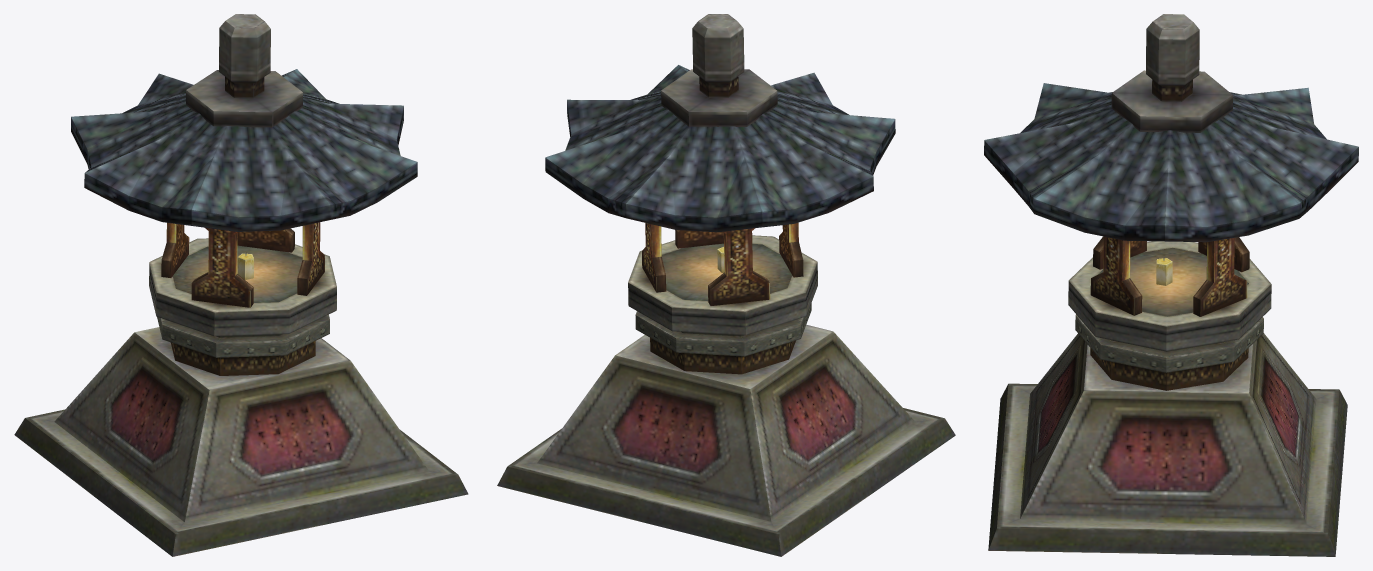
File: d_sd_shideng01_qt.FBX
The picture shows the model from 3 angles, left to right: view 1: azimuth 30°, elevation 25°; view 2: azimuth 150°, elevation 25°; view 3: azimuth 270°, elevation 25°; orthographic projection. The views are drawn at different scales.
Visible parts, largest first — view 1: d_sd_shideng01_qt_A; view 2: d_sd_shideng01_qt_A; view 3: d_sd_shideng01_qt_A.
Boxes of the visible parts, x1=… form: d_sd_shideng01_qt_A: x1=14, y1=14, x2=468, y2=556; d_sd_shideng01_qt_A: x1=497, y1=14, x2=955, y2=556; d_sd_shideng01_qt_A: x1=984, y1=14, x2=1358, y2=556.
Bounding box in the file's own units: 33.51 × 45.28 × 33.27.
1 material, 1 textured.
